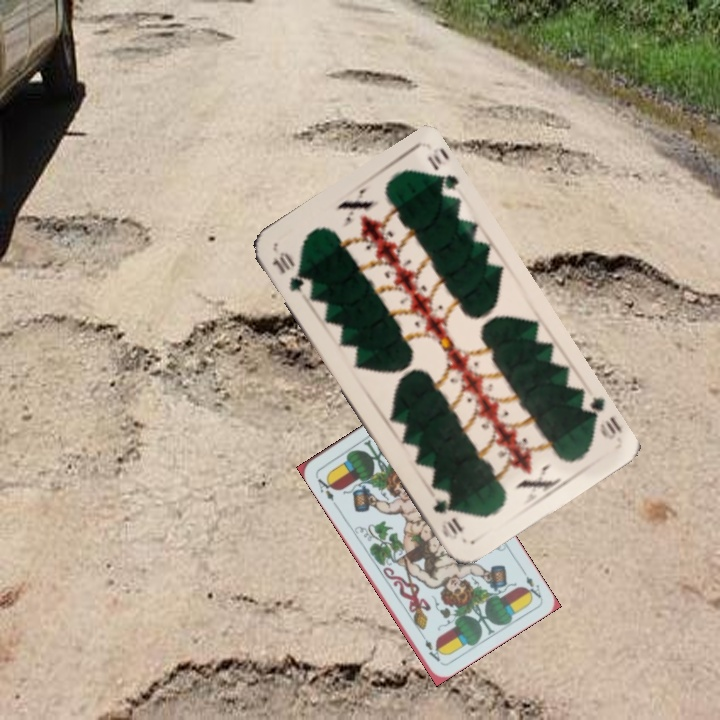EA: (517, 564, 544, 602), (312, 472, 338, 504)
G10: (577, 392, 625, 443), (267, 247, 307, 297)
